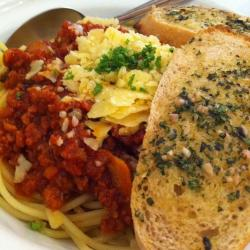bolonese_pasta: (3, 57, 135, 246)
bread: (131, 24, 250, 247), (138, 6, 250, 56)
omelette: (61, 21, 180, 130)
